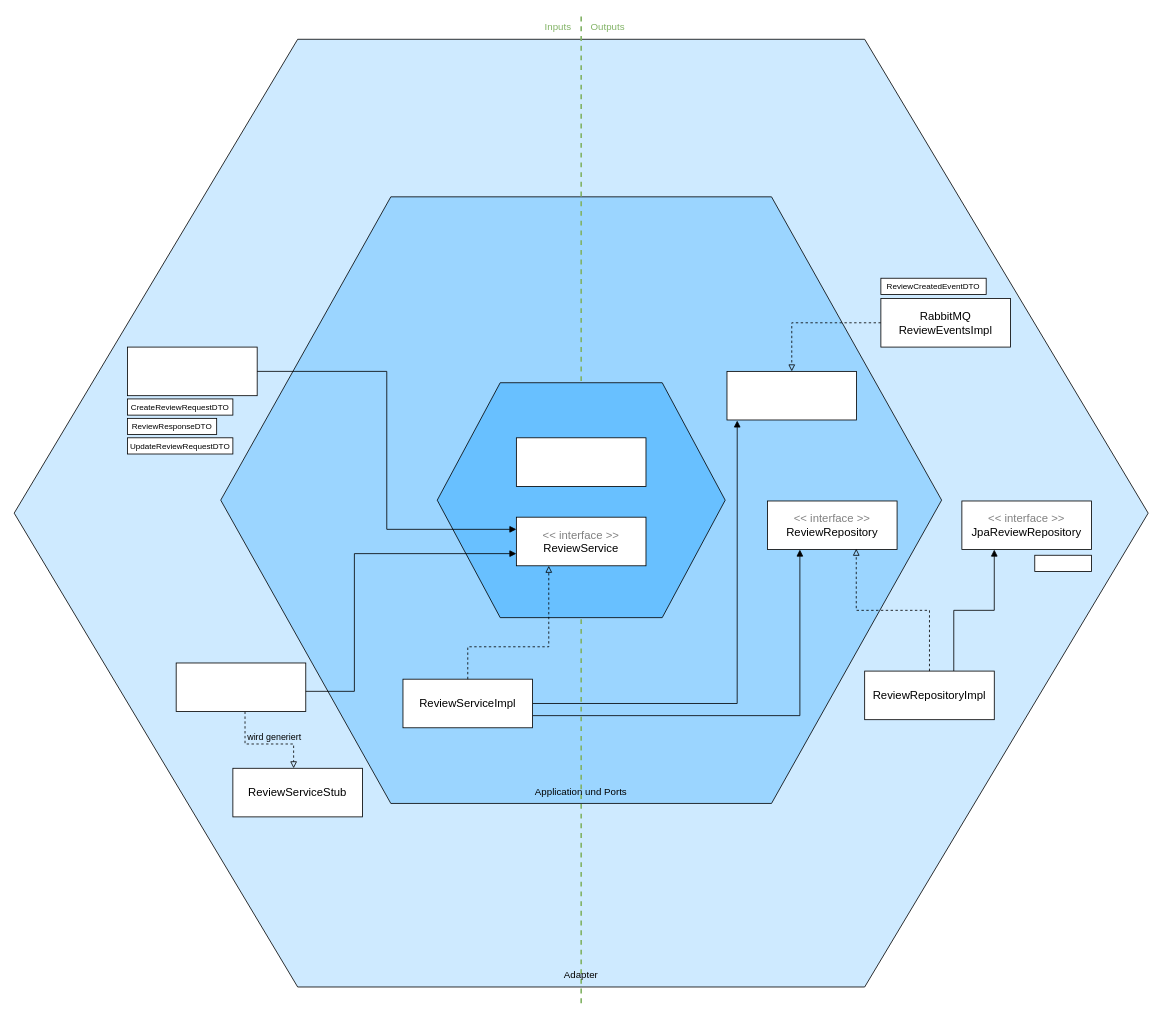
Image size: 1162x1018. Some labels were removed from this diagram. The box of each missing label's shape, as (x1, y1, x2, y2) in pixels:
<< interface >> ReviewEvents: (726, 371, 857, 420)
Review: (516, 437, 646, 486)
ReviewEntity: (1034, 554, 1091, 571)
ReviewGrpcController: (175, 662, 306, 712)
ReviewRestControllerV1: (127, 346, 257, 396)
